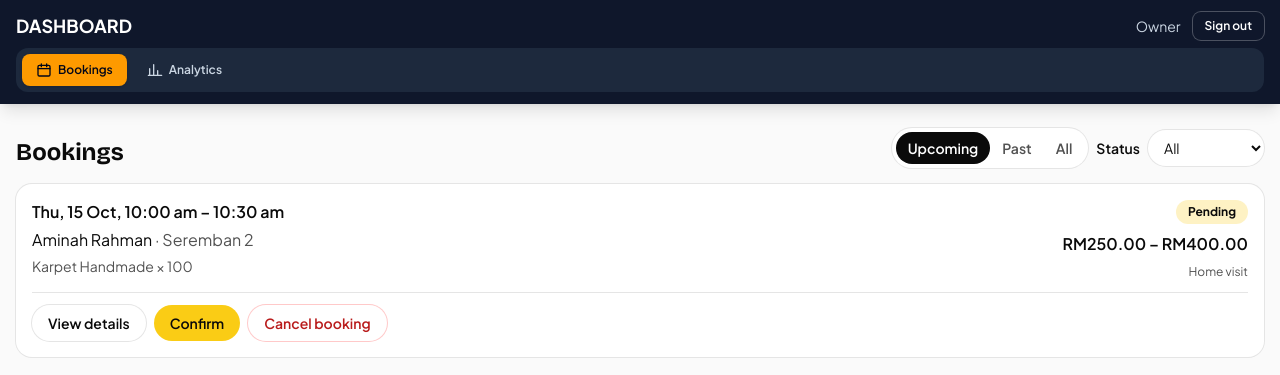
Test: bookings page › asks before cancelling
The image size is (1280, 375).
Click the button "Cancel booking" at (317, 323), box [248,305,387,341]
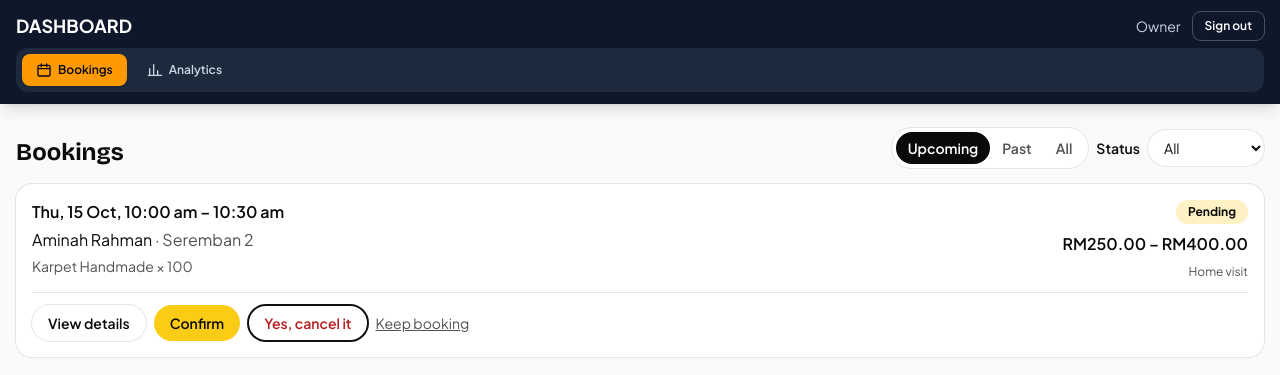
Click the button "Keep booking" at (422, 323), box [376,313,469,333]
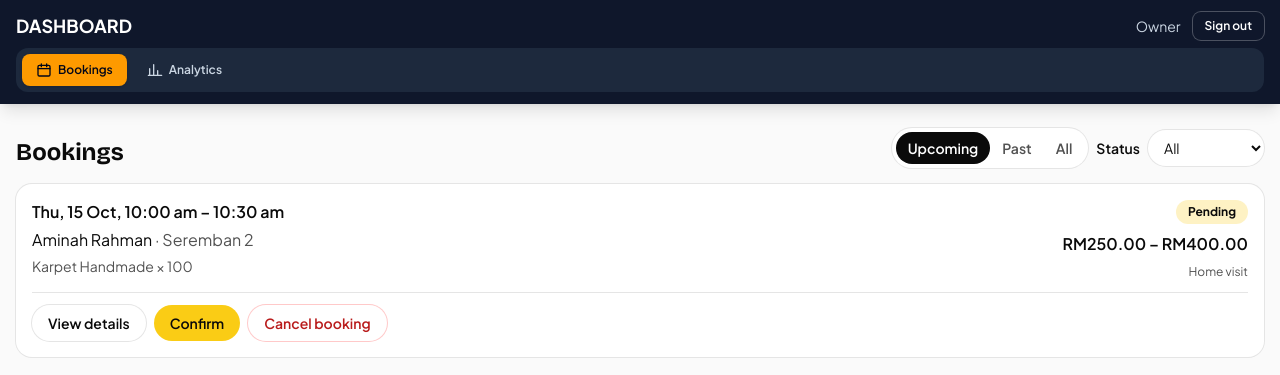
Expected: the button "Cancel booking" is shown
Click the button "Cancel booking" at (317, 323), box [248,305,387,341]
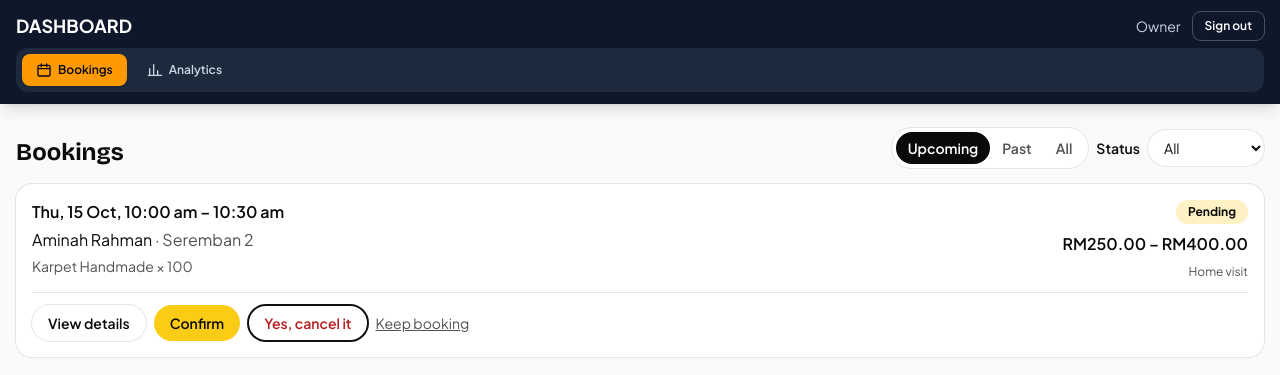
Click the button "Yes, cancel it" at (308, 323), box [248,305,368,341]
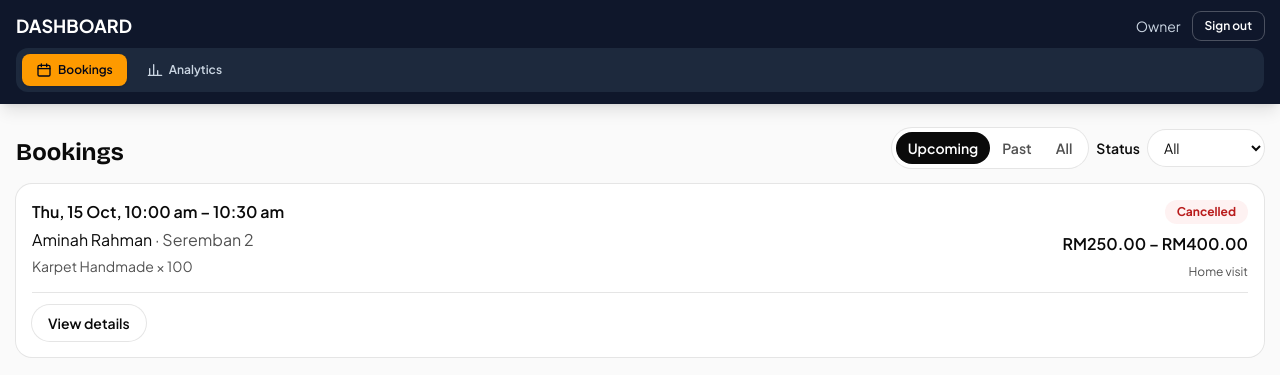
Expected: the text "Cancelled" is shown, [1165,200,1248,224]
